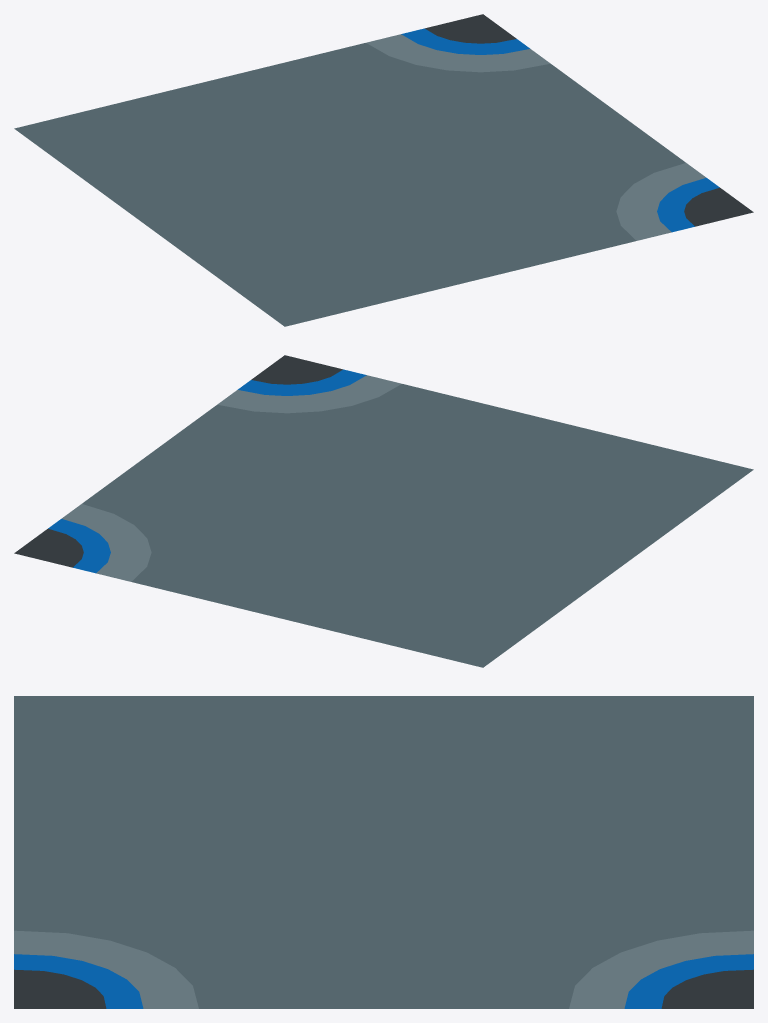
File: Ceiling_type_C_016.fbx
The picture shows the model from 3 angles, top to bottom: view 1: azimuth 30°, elevation 25°; view 2: azimuth 150°, elevation 25°; view 3: azimuth 270°, elevation 25°; orthographic projection. The views are drawn at different scales.
Parts seen in each view (by area): view 1: Ceiling_type_C_016; view 2: Ceiling_type_C_016; view 3: Ceiling_type_C_016.
Boxes of the visible parts, left/top/right/bottom form: Ceiling_type_C_016: left=14, top=14, right=753, bottom=326; Ceiling_type_C_016: left=14, top=355, right=753, bottom=667; Ceiling_type_C_016: left=14, top=696, right=753, bottom=1008.
Size of the model in its own units: 400 by 400 by 5.66.
